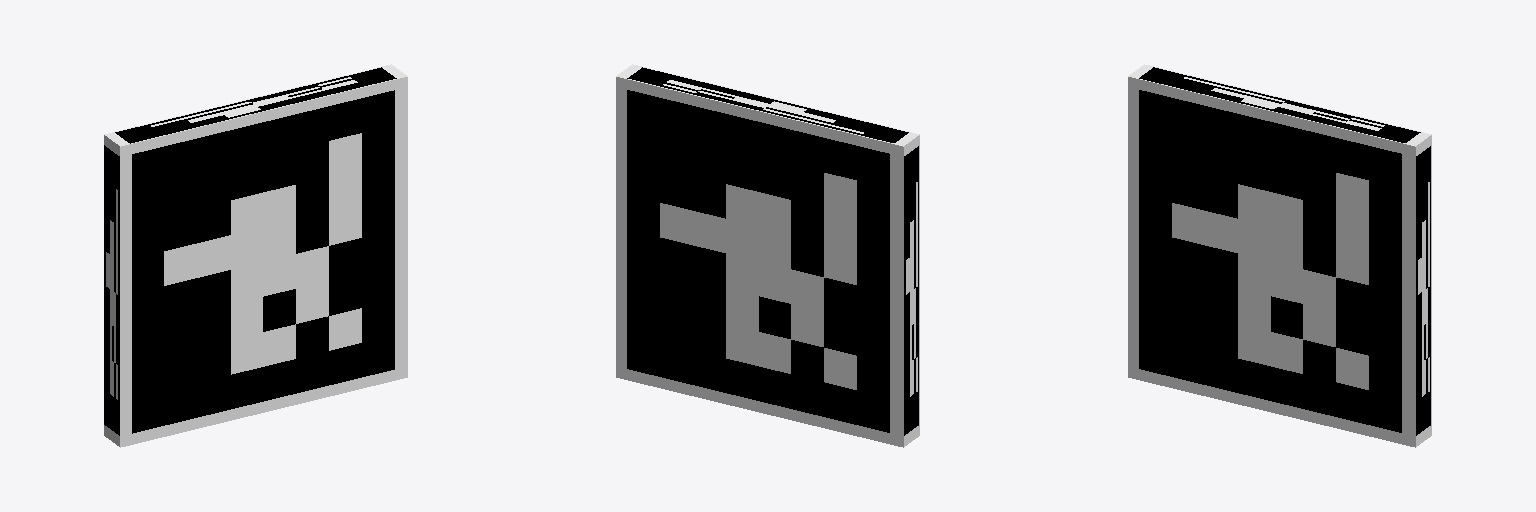
3 renders of one model, left to right at view 1: azimuth 30°, elevation 25°; view 2: azimuth 150°, elevation 25°; view 3: azimuth 330°, elevation 25°, orthographic.
Visible parts, largest first — view 1: Cube; view 2: Cube; view 3: Cube.
Boxes of the visible parts, x1,y1,x2,y2 form: Cube: [104, 64, 407, 447]; Cube: [616, 64, 919, 447]; Cube: [1128, 64, 1431, 447].
Size of the model in its own units: 2 by 2 by 0.2.
1 materials, 1 textured.